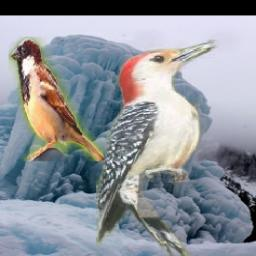Sparrow: (9, 38, 104, 162)
Woodpecker: (97, 41, 221, 256)
